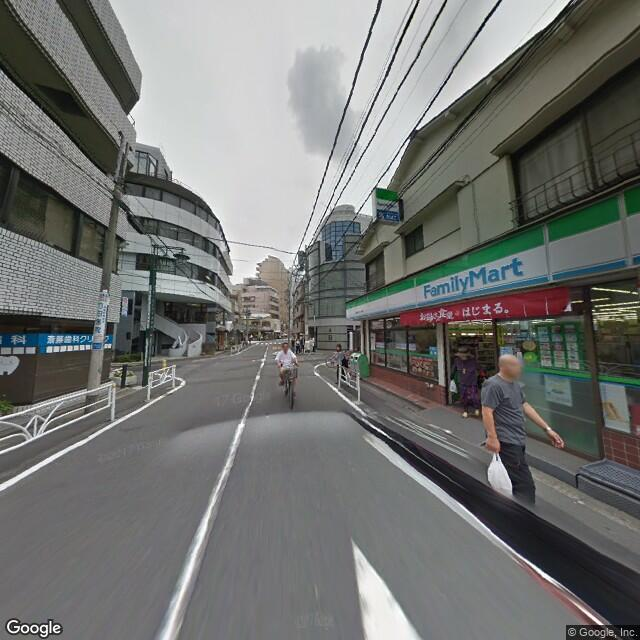family_mart: (343, 183, 639, 323), (418, 252, 530, 307), (369, 183, 404, 220)
